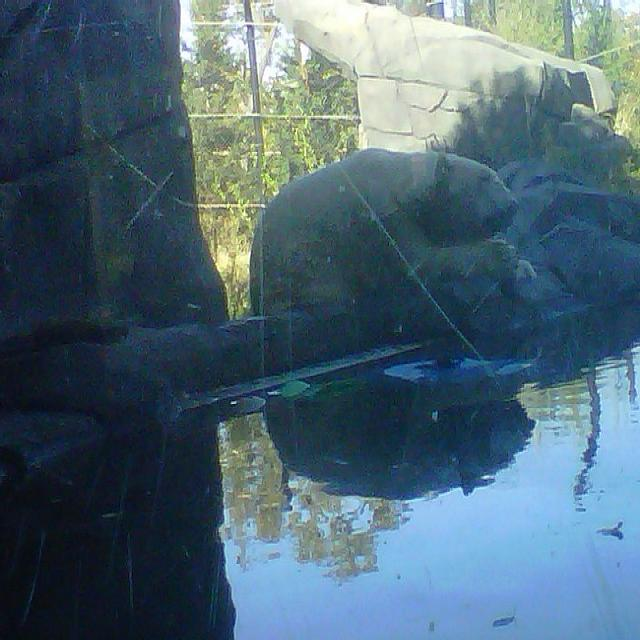Bear: (242, 144, 528, 297)
